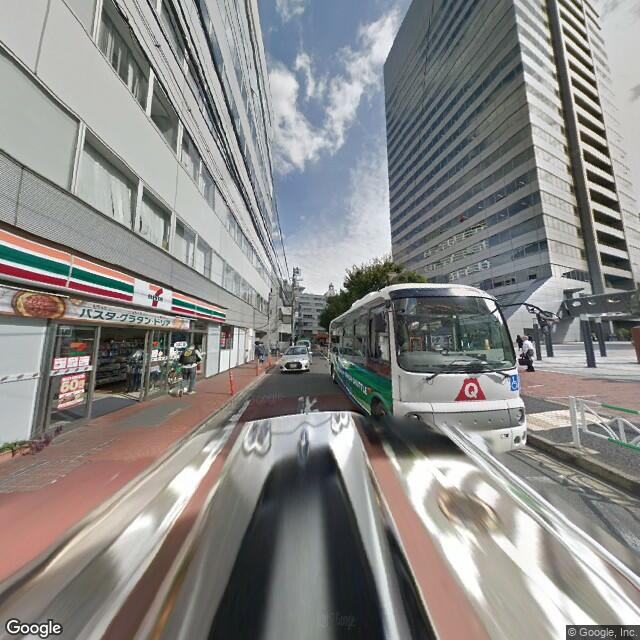7-eleven: (1, 224, 228, 329)
